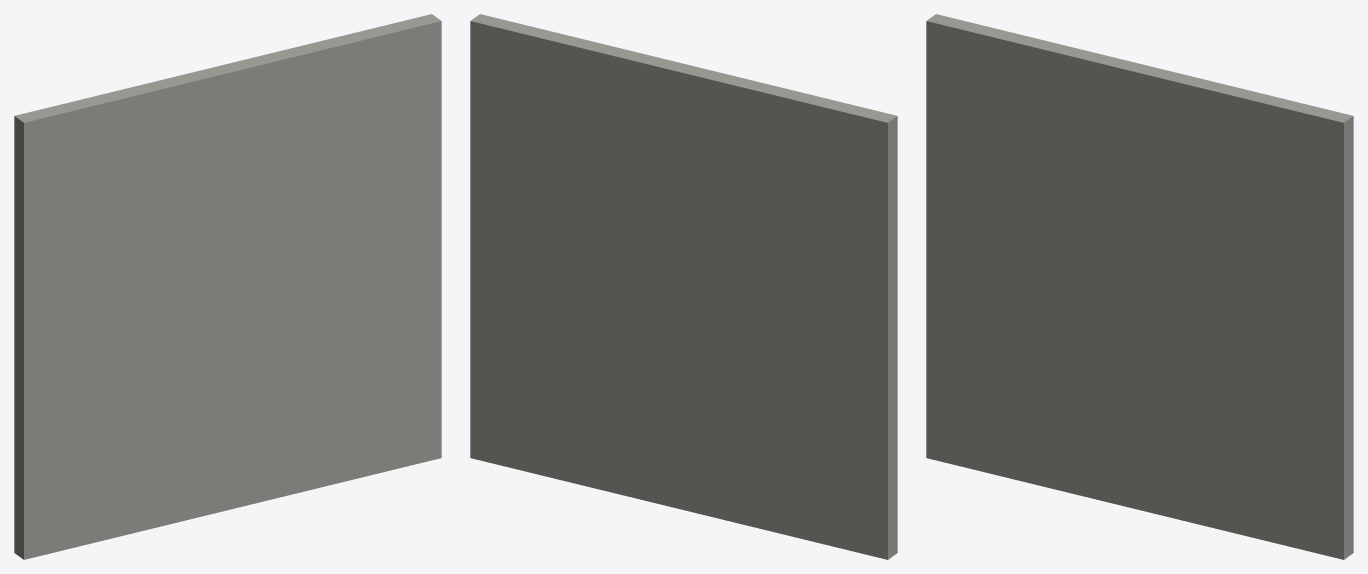
The model's file is lid.obj.
3 views of the same model, side by side, from view 1: azimuth 30°, elevation 25°; view 2: azimuth 150°, elevation 25°; view 3: azimuth 330°, elevation 25° (orthographic).
Size of the model in its own units: 1 by 1 by 0.04.
Materials: 1 (1 with a texture image).
